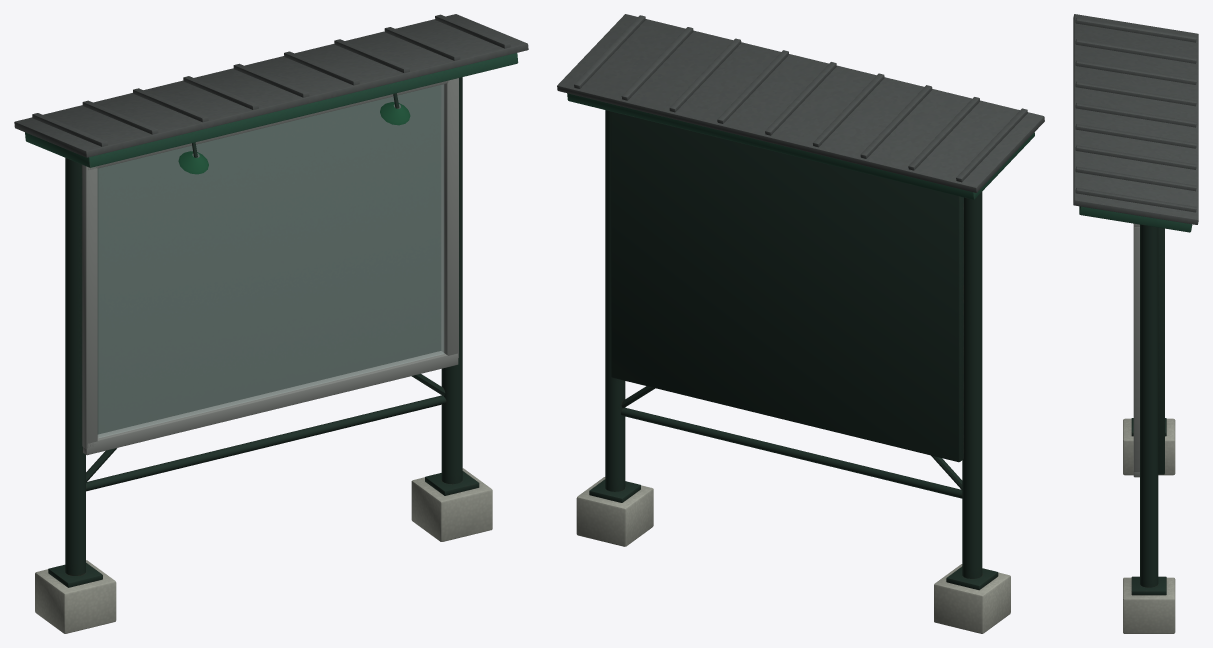
The model's file is CTCC_LOC01_CampusDirectoryBoard.fbx.
3 renders of one model, left to right at view 1: azimuth 30°, elevation 25°; view 2: azimuth 150°, elevation 25°; view 3: azimuth 270°, elevation 25°, orthographic. The views are drawn at different scales.
Parts seen in each view (by area): view 1: CTCC_LOC01_CampusDirectoryBoard_LOD0; view 2: CTCC_LOC01_CampusDirectoryBoard_LOD0; view 3: CTCC_LOC01_CampusDirectoryBoard_LOD0.
Part boxes in pixels (left/top/right/bottom): CTCC_LOC01_CampusDirectoryBoard_LOD0: left=14, top=14, right=528, bottom=633; CTCC_LOC01_CampusDirectoryBoard_LOD0: left=557, top=14, right=1044, bottom=633; CTCC_LOC01_CampusDirectoryBoard_LOD0: left=1073, top=14, right=1198, bottom=633.
Size of what is drawn, in the model's own units: 2.02 by 2.22 by 0.575.
